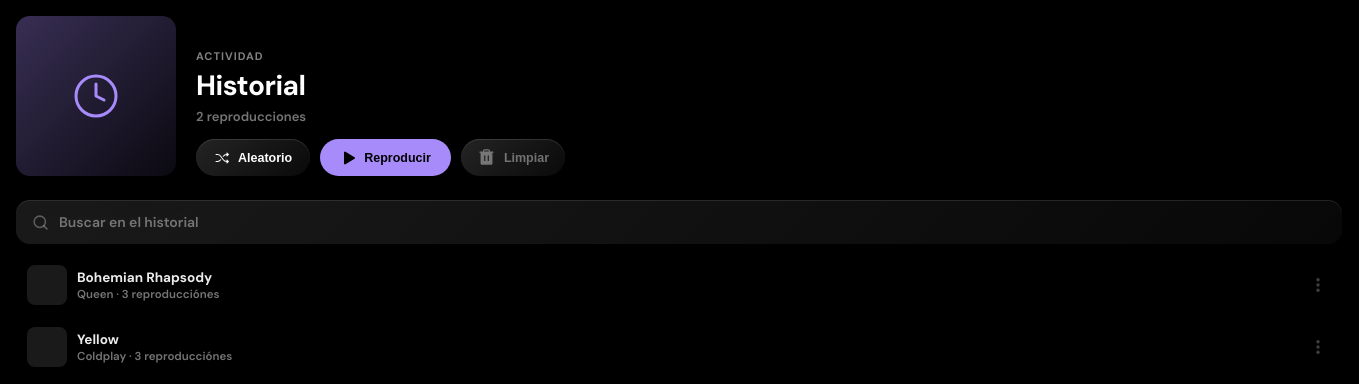
HistoryView — buscador local › muestra aviso sin resultados y vaciar la consulta restaura la lista
Type "zzz" into the field with placeholder "Buscar en el historial" at (692, 222), box [59,200,1326,244]
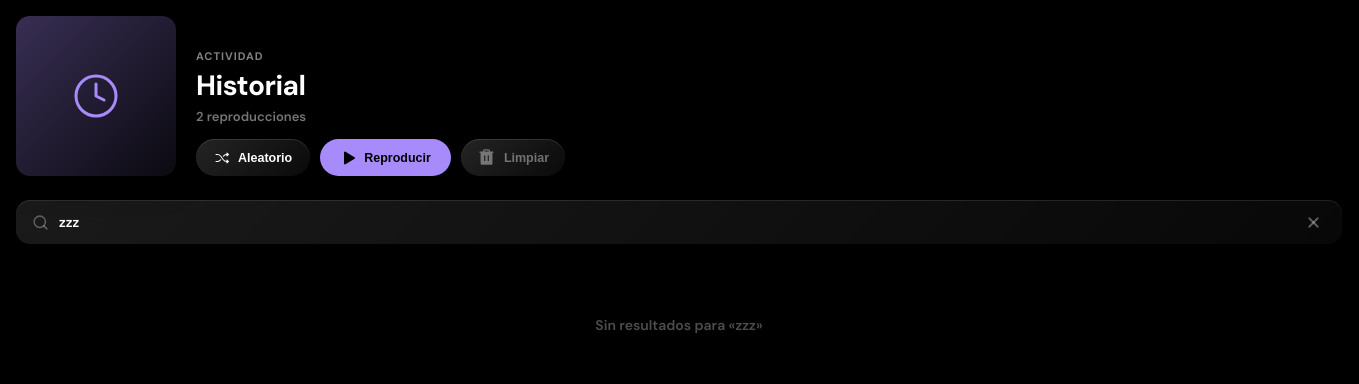
Expected: the text "Sin resultados para «zzz»" is shown, [595,316,763,334]
Expected: the text "Yellow" is gone
Click the 4th button at (1314, 222), box [1301,210,1326,234]
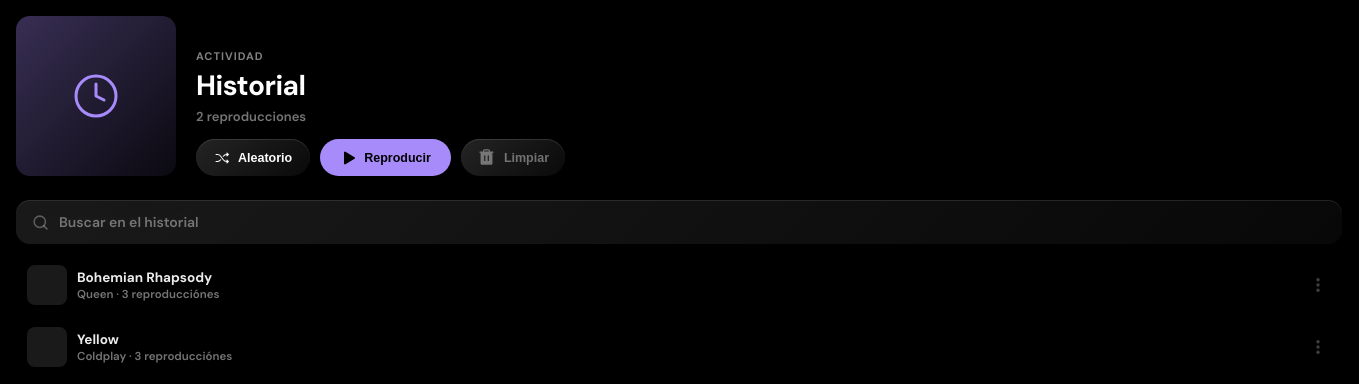
Expected: the text "Bohemian Rhapsody" is shown, [77,268,212,286]
Expected: the text "Yellow" is shown, [77,330,119,348]
